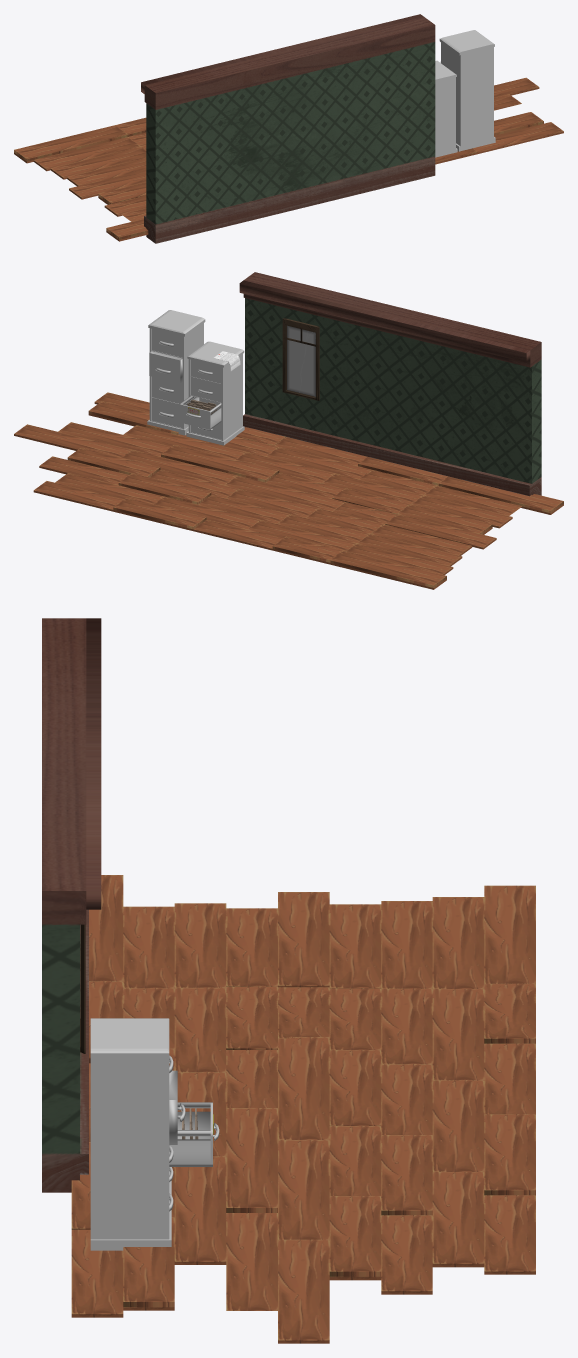
The model's file is Concept_Menu.fbx.
3 renders of one model, top to bottom at view 1: azimuth 30°, elevation 25°; view 2: azimuth 150°, elevation 25°; view 3: azimuth 270°, elevation 25°, orthographic. The views are drawn at different scales.
Parts seen in each view (by area): view 1: Cube, Cube.002, Cube.012, Cube.032; view 2: Cube, Cube.002, Cube.042, Cube.012, Cube.032, Janela.001, Cube.017; view 3: Cube.002, Cube, Cube.042, Cube.012, Cube.017.
Part boxes in pixels (x1=…): Cube: x1=141, y1=14, x2=435, y2=243; Cube.002: x1=14, y1=77, x2=563, y2=241; Cube.012: x1=439, y1=30, x2=495, y2=151; Cube.032: x1=435, y1=60, x2=457, y2=157; Cube: x1=239, y1=272, x2=541, y2=496; Cube.002: x1=14, y1=392, x2=563, y2=589; Cube.042: x1=67, y1=425, x2=410, y2=533; Cube.012: x1=147, y1=310, x2=205, y2=435; Cube.032: x1=186, y1=341, x2=244, y2=445; Janela.001: x1=282, y1=318, x2=319, y2=400; Cube.017: x1=179, y1=396, x2=221, y2=429; Cube.002: x1=71, y1=875, x2=535, y2=1343; Cube: x1=42, y1=618, x2=101, y2=1192; Cube.042: x1=174, y1=986, x2=535, y2=1280; Cube.012: x1=90, y1=1018, x2=185, y2=1250; Cube.017: x1=169, y1=1102, x2=219, y2=1166.
Size of the model in its own units: 1648 by 503 by 747.
